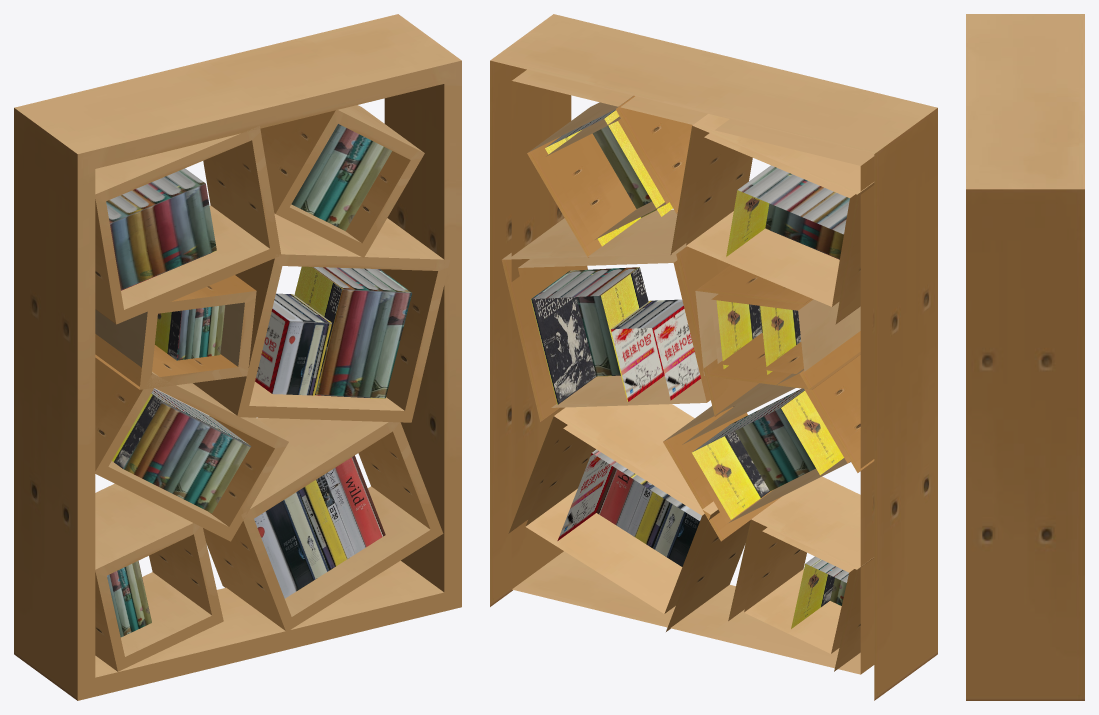
File: bookShelf2.fbx
3 renders of one model, left to right at view 1: azimuth 30°, elevation 25°; view 2: azimuth 150°, elevation 25°; view 3: azimuth 270°, elevation 25°, orthographic. The views are drawn at different scales.
Parts seen in each view (by area): view 1: bookShelf2; view 2: bookShelf2; view 3: bookShelf2.
Part boxes in pixels (bbox=[...]): bookShelf2: bbox=[14, 14, 461, 700]; bookShelf2: bbox=[490, 14, 937, 700]; bookShelf2: bbox=[966, 14, 1084, 700].
Size of the model in its own units: 13.03 by 17.71 by 3.73.
